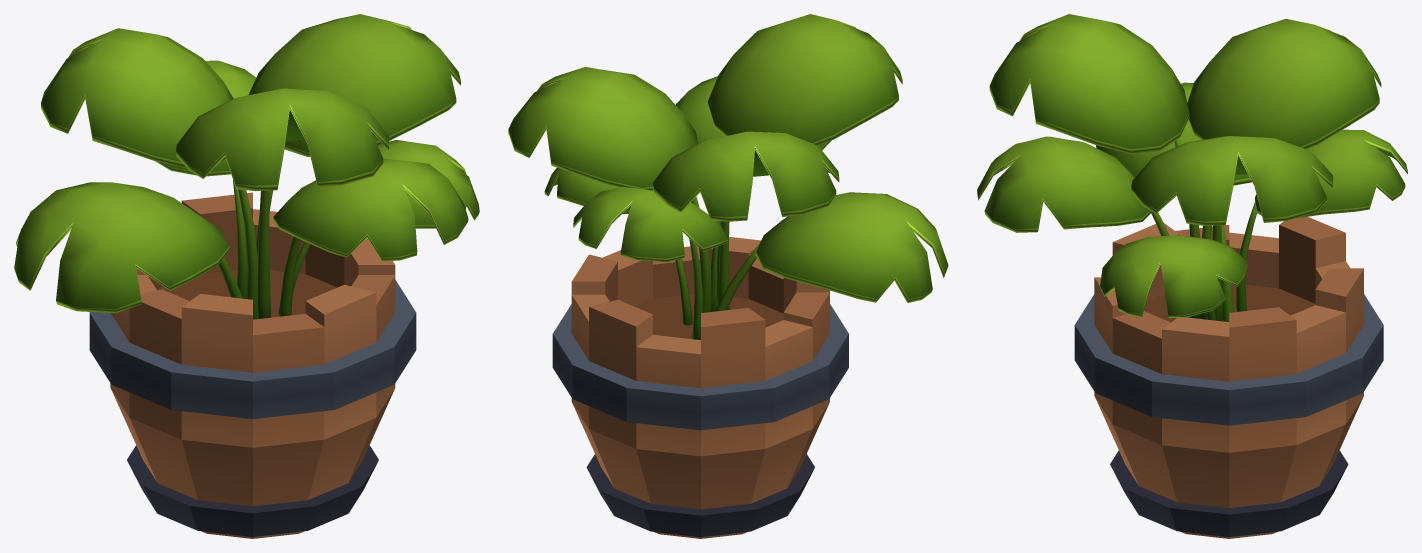
File: mt_prop_plant01.fbx
3 renders of one model, left to right at view 1: azimuth 30°, elevation 25°; view 2: azimuth 150°, elevation 25°; view 3: azimuth 270°, elevation 25°, orthographic. The views are drawn at different scales.
Parts seen in each view (by area): view 1: prop_plant01; view 2: prop_plant01; view 3: prop_plant01.
Boxes of the visible parts, x1,y1,x2,y2 form: prop_plant01: (14,14,479,538); prop_plant01: (508,14,948,538); prop_plant01: (977,14,1407,538).
Bounding box in the file's own units: 137 × 145 × 125.
